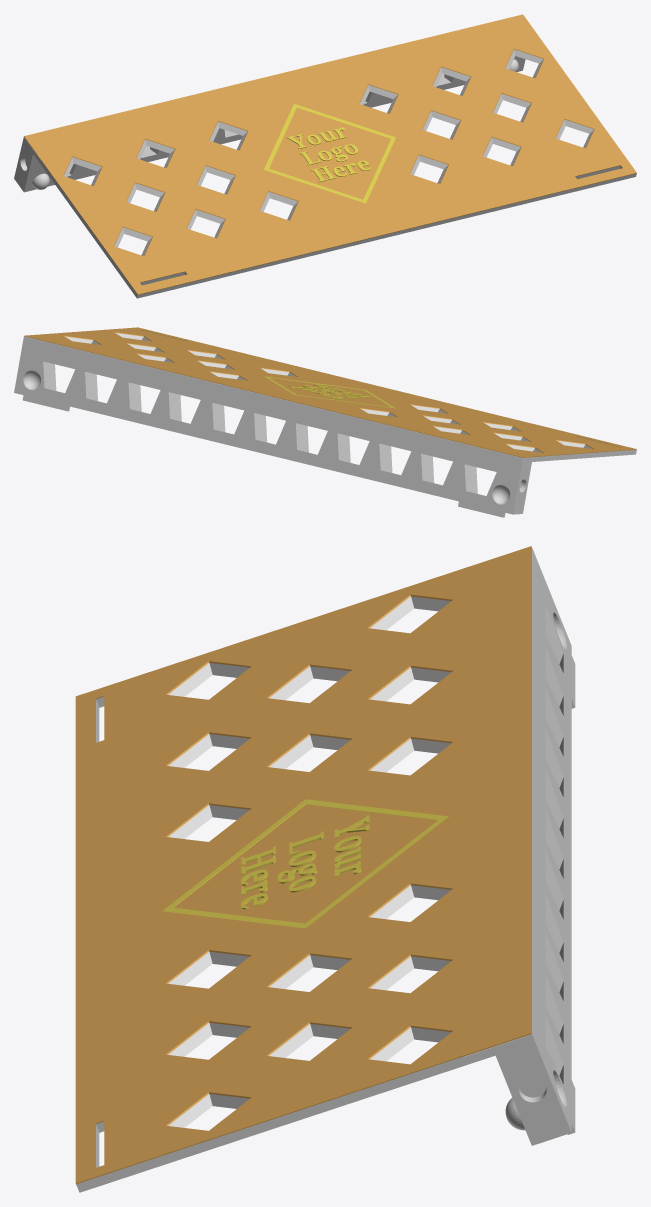
File: Final_217_Risers_V1.glb
3 views of the same model, one above another, from view 1: azimuth 30°, elevation 25°; view 2: azimuth 150°, elevation 25°; view 3: azimuth 270°, elevation 25° (orthographic). The views are drawn at different scales.
Parts seen in each view (by area): view 1: Mesh_Mesh_head_geo.001_lambert2SG.001; view 2: Mesh_Mesh_head_geo.001_lambert2SG.001; view 3: Mesh_Mesh_head_geo.001_lambert2SG.001.
Part boxes in pixels (x1,y1,x2,y2): Mesh_Mesh_head_geo.001_lambert2SG.001: (14, 14, 636, 298); Mesh_Mesh_head_geo.001_lambert2SG.001: (14, 327, 636, 517); Mesh_Mesh_head_geo.001_lambert2SG.001: (75, 546, 575, 1192).
Size of the model in its own units: 218 by 33.26 by 94.3.
